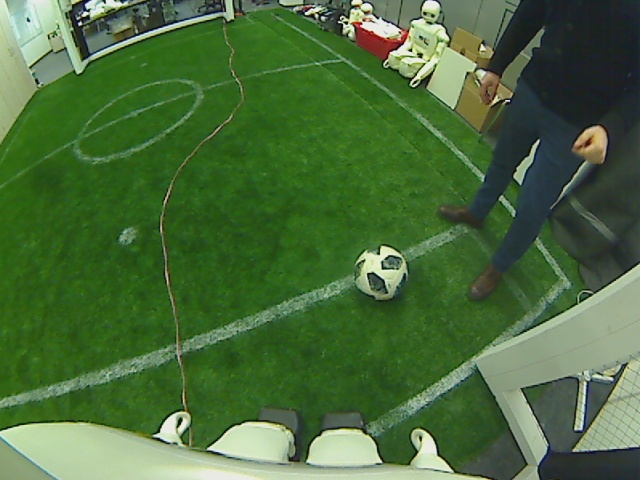ball: (350, 244, 409, 300)
